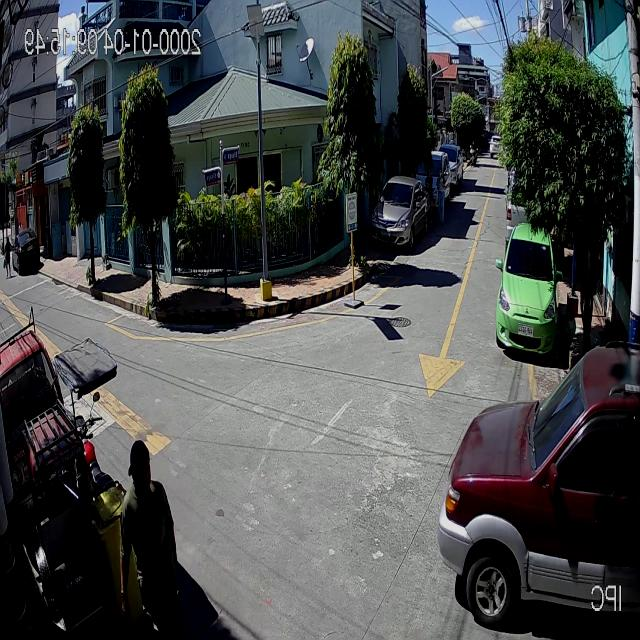walking: (122, 426, 182, 640)
